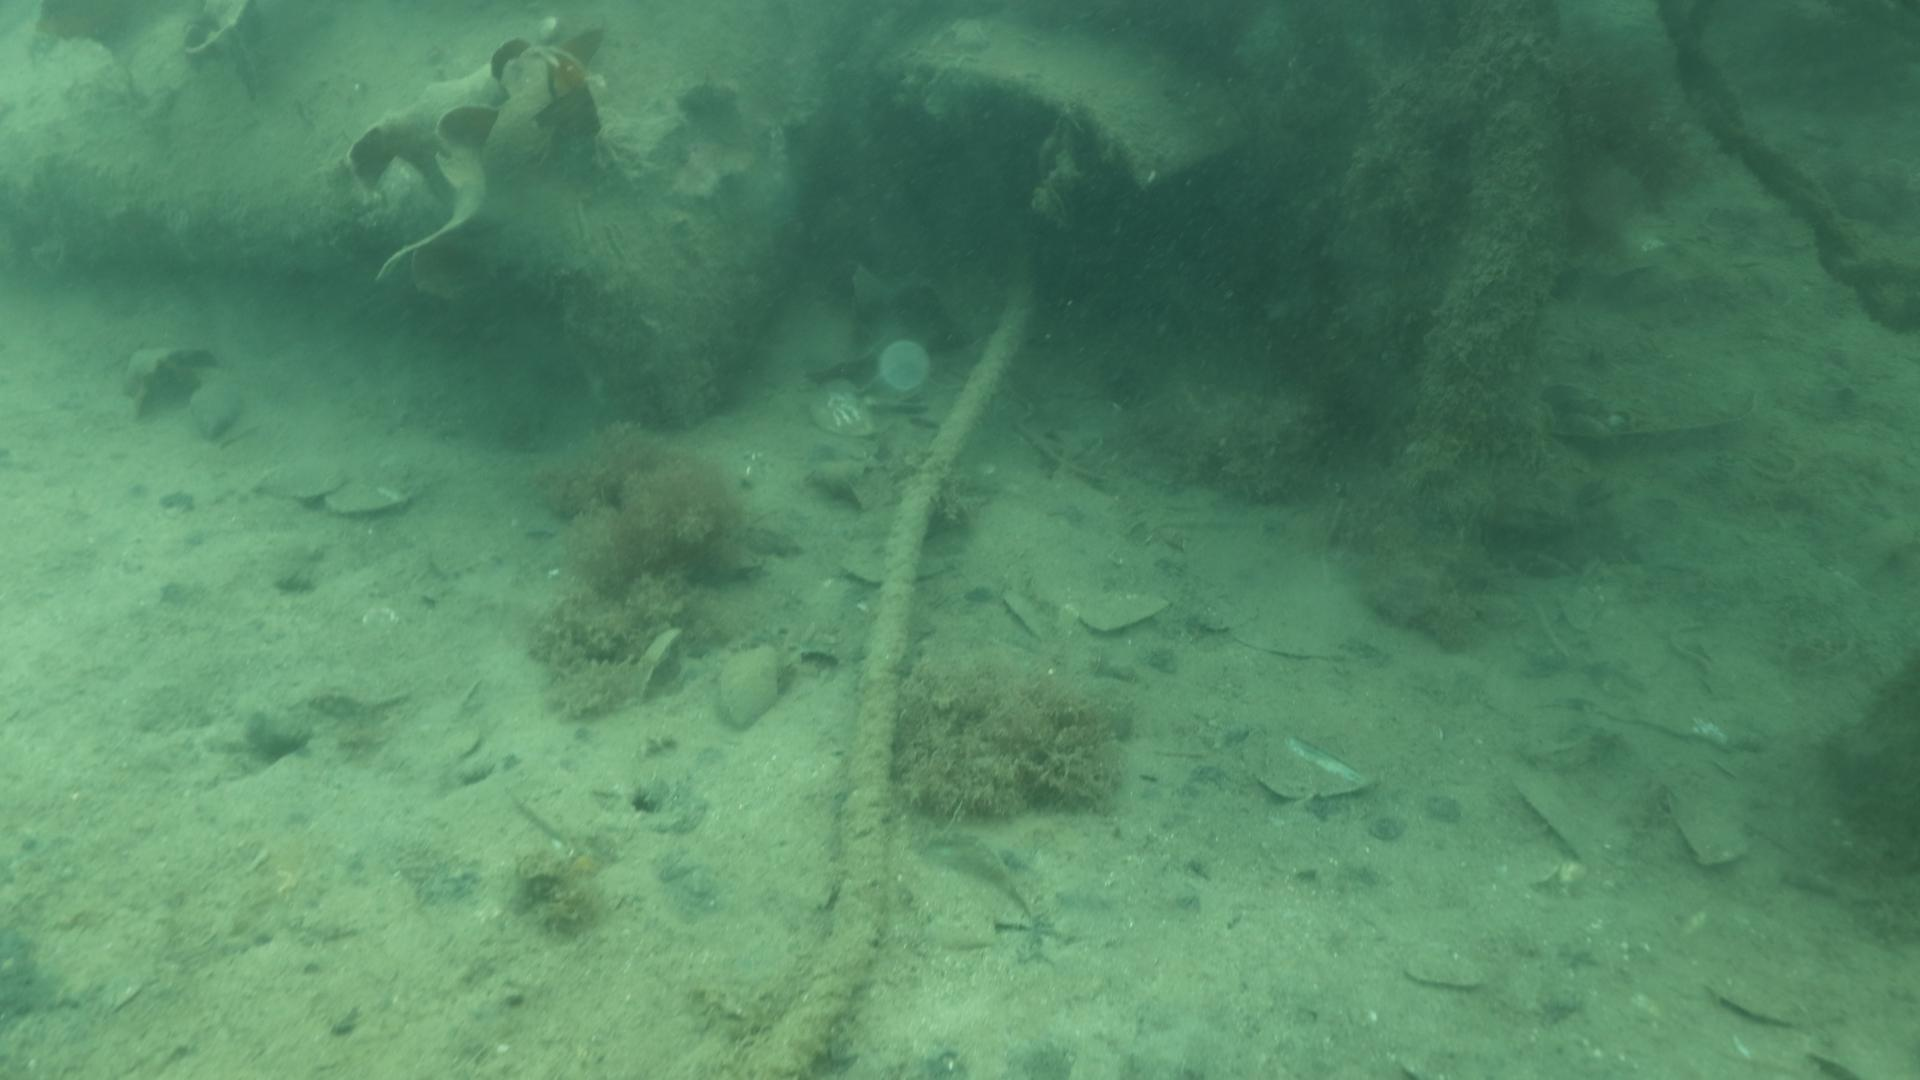rope: (737, 203, 1048, 1080)
